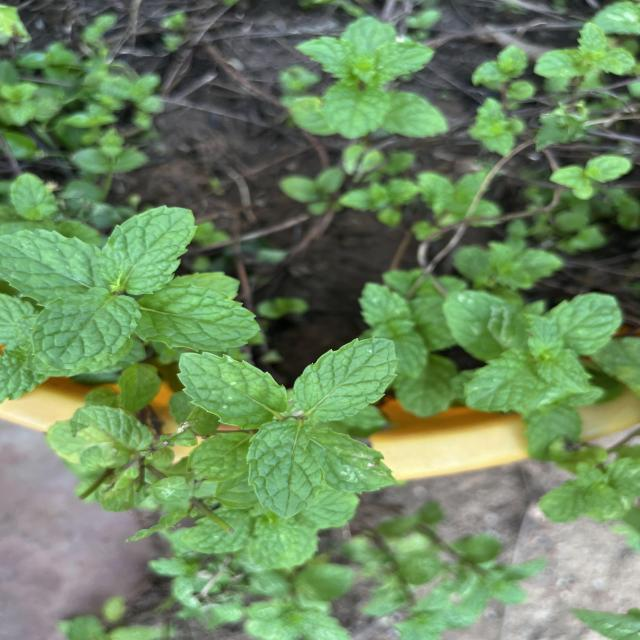Mentha spicata: (30, 287, 142, 373), (292, 335, 401, 423), (97, 204, 199, 296), (133, 282, 262, 354), (175, 350, 288, 430), (245, 420, 328, 520)
